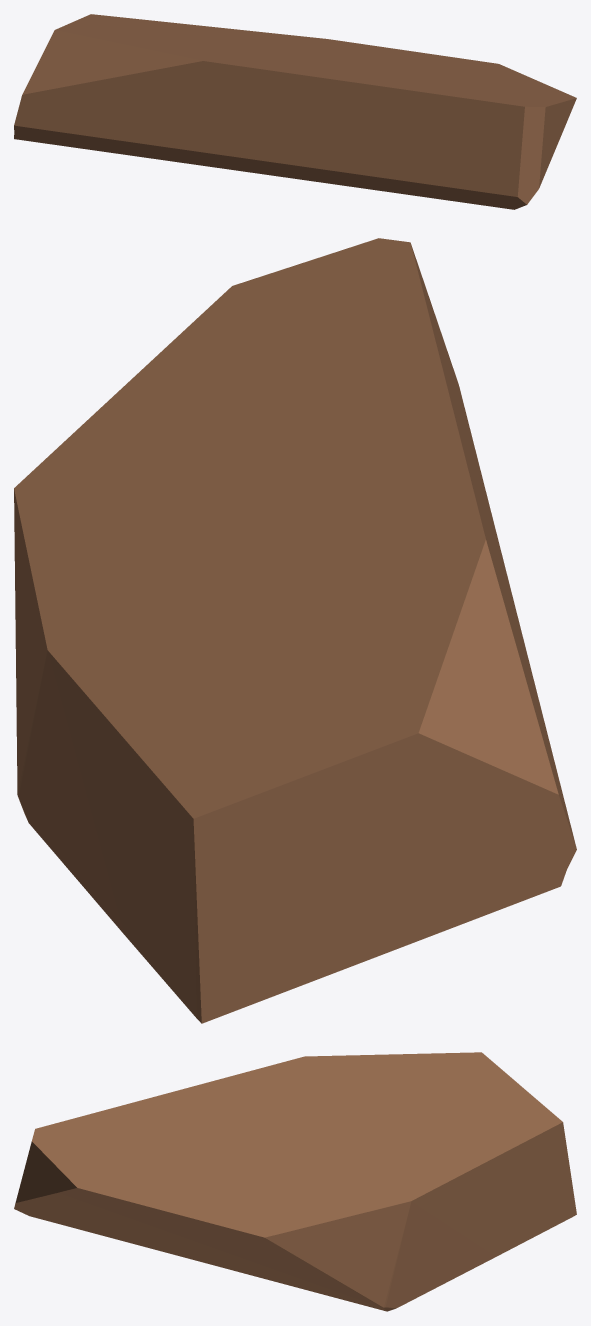
The model's file is WoodCellCube_003_cell_006.fbx.
3 views of the same model, one above another, from view 1: azimuth 30°, elevation 25°; view 2: azimuth 150°, elevation 25°; view 3: azimuth 270°, elevation 25° (orthographic). The views are drawn at different scales.
Visible parts, largest first — view 1: WoodCellCube_003_cell_006; view 2: WoodCellCube_003_cell_006; view 3: WoodCellCube_003_cell_006.
Part boxes in pixels (box(x1,y1,x2,y2)): WoodCellCube_003_cell_006: box(14, 14, 576, 209); WoodCellCube_003_cell_006: box(14, 238, 576, 1023); WoodCellCube_003_cell_006: box(14, 1052, 576, 1311).
Bounding box in the file's own units: 1.24 × 0.4153 × 0.957.
Materials: 1 (1 with a texture image).
